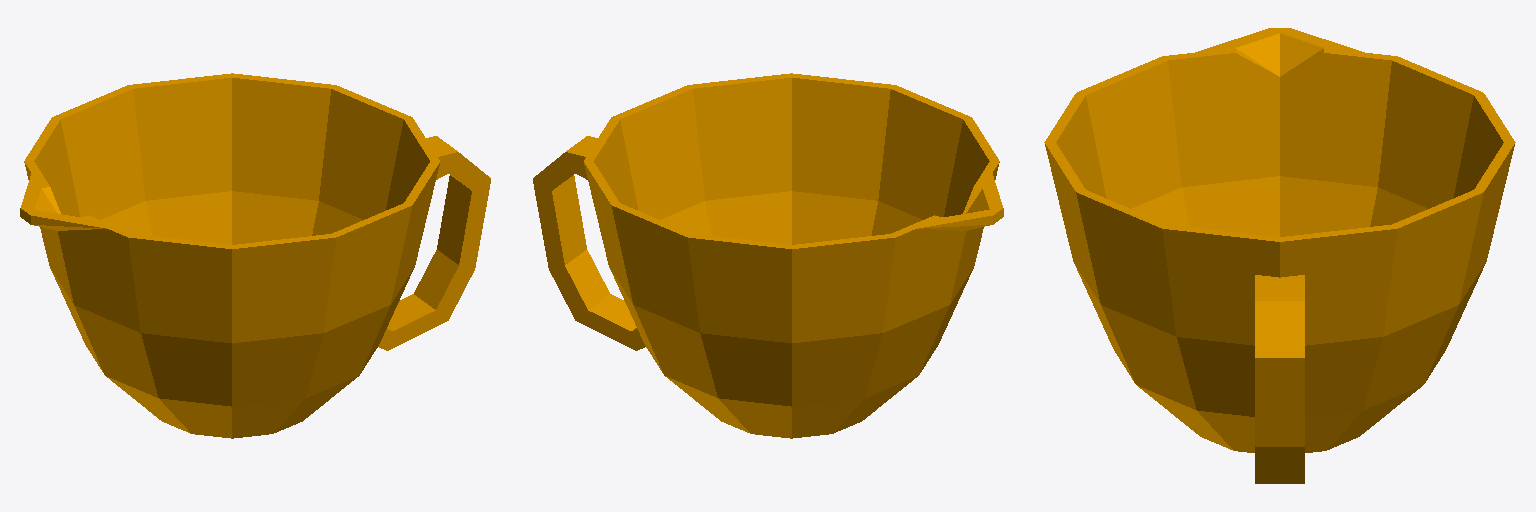
The robot description file, URDF, robot "giantteacup.off":
<?xml version="1.0"?>
<robot name="giantteacup.off">
	<link name="giantteacup.off">
		<inertial>
			<!--origin xyz="0 0 0" rpy="0 0 0" /-->
			<mass value="0.5" />
			<!--inertia ixx="0.000360" ixy="0" ixz="0" iyy="0.0000615" iyz="0" izz="0.00036" /-->
		</inertial>
    		<visual>
	      		<!--origin rpy="0 0 0" xyz="0 0 0"/-->
      			<geometry>
        			<mesh filename="giantteacup.off.obj"/>
      			</geometry>
         	</visual>
    		<collision>
      			<!--origin rpy="0 0 0" xyz="0 0 0"/-->
      			<geometry>
        			<mesh filename="giantteacup.off.obj"/>
      			</geometry>
    		</collision>
	</link>
</robot>

--- Facts derived from the render (not from the file) ---
The picture shows the robot from 3 angles, left to right: view 1: azimuth 30°, elevation 25°; view 2: azimuth 150°, elevation 25°; view 3: azimuth 270°, elevation 25°; orthographic projection.
Robot: giantteacup.off — 1 links, 0 joints (none); root link giantteacup.off; default pose: every joint at zero.
Visible links, largest first — view 1: giantteacup.off; view 2: giantteacup.off; view 3: giantteacup.off.
Link boxes in pixels (x1=…): giantteacup.off: x1=20, y1=73, x2=490, y2=438; giantteacup.off: x1=533, y1=73, x2=1003, y2=438; giantteacup.off: x1=1044, y1=28, x2=1515, y2=483.
Size in the robot's own frame: 25.85 by 20.5 by 13.2 metres.
Meshes: 1 distinct files referenced, 1 mesh visuals loaded (1 OBJ).